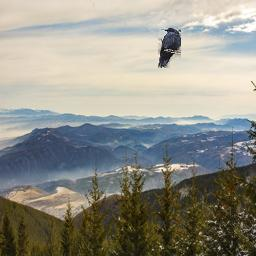Crow: (158, 28, 181, 68)
